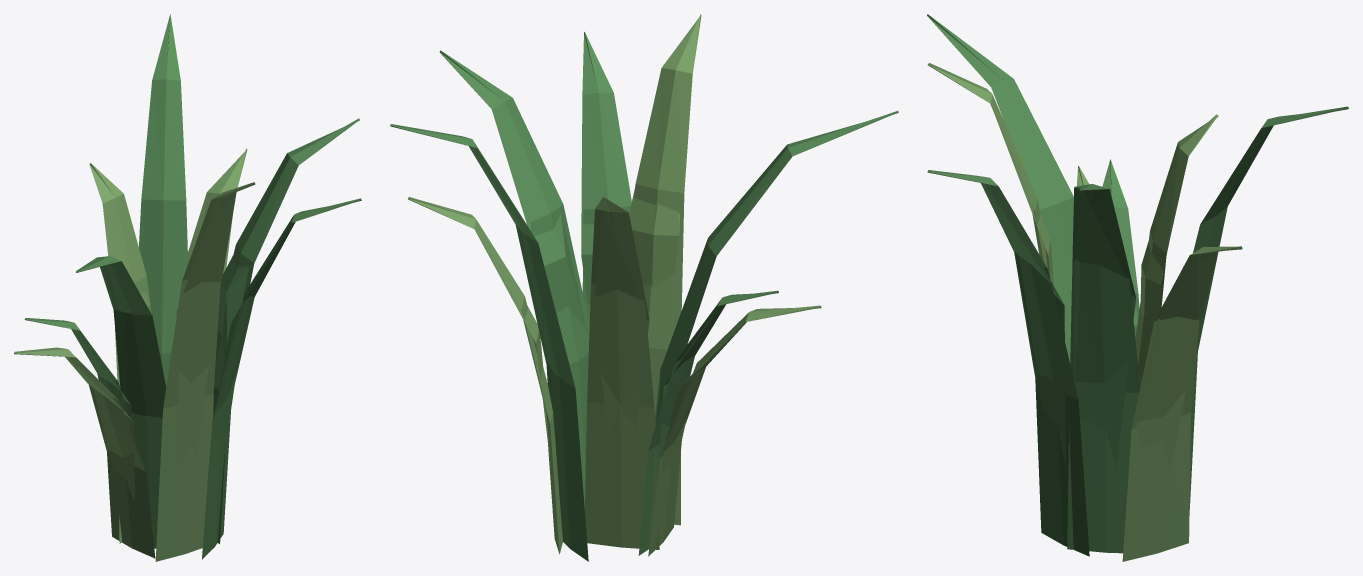
File: grass_c.glb
The picture shows the model from 3 angles, left to right: view 1: azimuth 30°, elevation 25°; view 2: azimuth 150°, elevation 25°; view 3: azimuth 270°, elevation 25°; orthographic projection. The views are drawn at different scales.
Visible parts, largest first — view 1: leaf_nl, body__far; view 2: leaf_nl, body__far; view 3: leaf_nl, body__far.
Boxes of the visible parts, x1,y1,x2,y2 form: leaf_nl: (14, 14, 361, 561); body__far: (16, 18, 342, 502); leaf_nl: (390, 14, 898, 561); body__far: (394, 19, 862, 484); leaf_nl: (927, 14, 1348, 561); body__far: (930, 18, 1296, 470).
Bounding box in the file's own units: 4.47 × 5.14 × 4.06.
